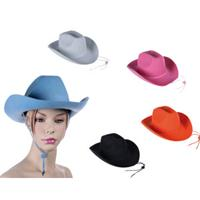hat: (5, 75, 89, 124), (128, 50, 180, 86), (142, 106, 193, 142), (48, 30, 98, 65), (90, 134, 140, 167)
